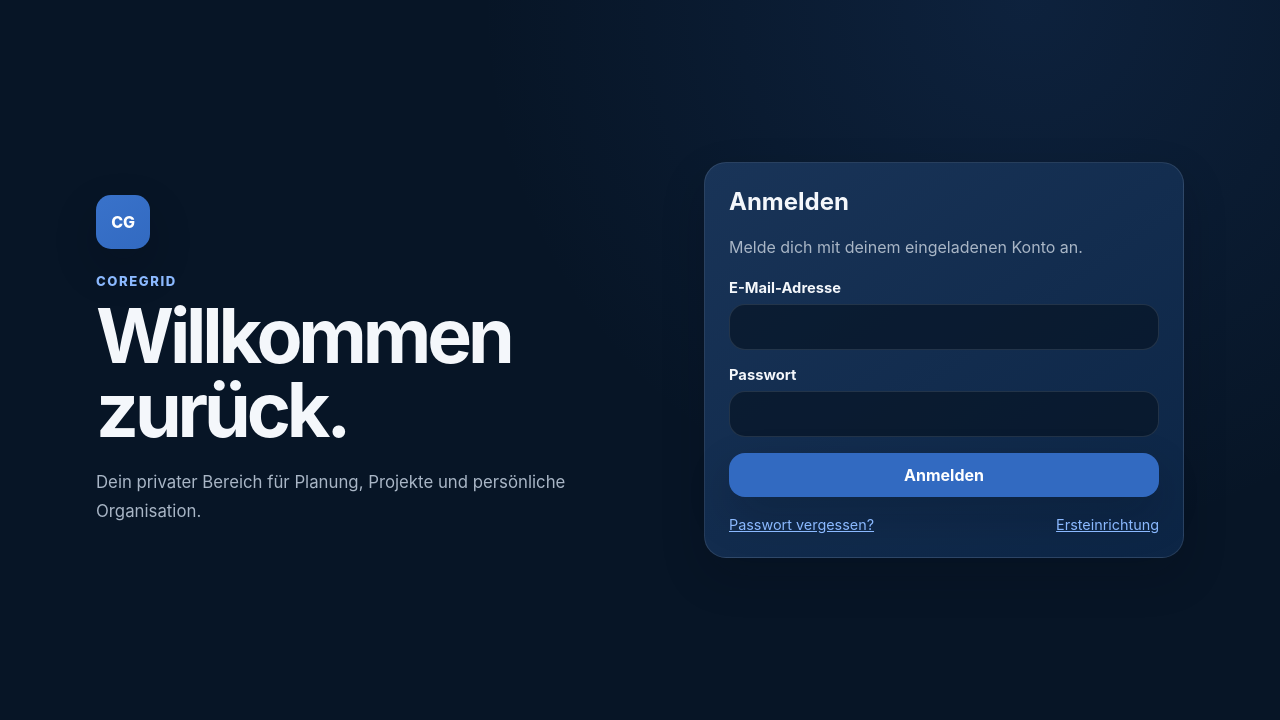
authentication pages › shows German validation for an invalid login
Click the button "Anmelden" at (944, 475), box [729,453,1159,497]
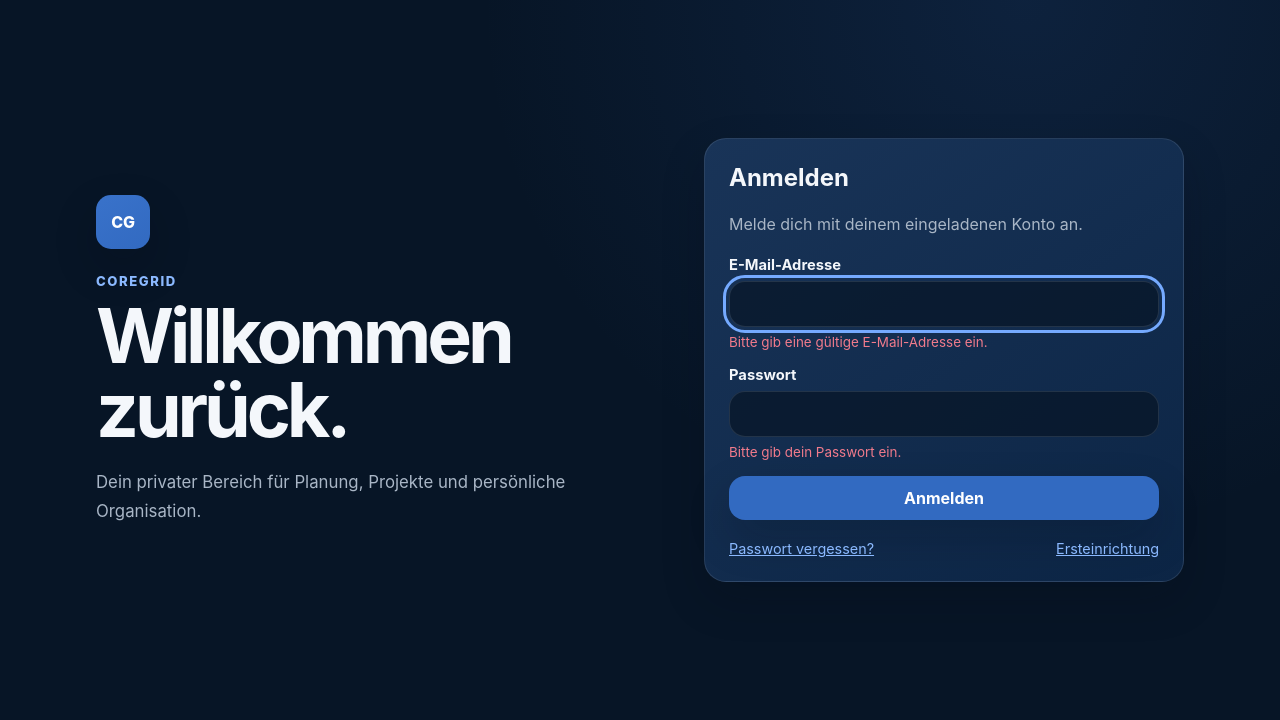
Check: the text "Bitte gib eine gültige E-Mail-Adresse ein." is shown, box [729,334,988,350]
Check: the text "Bitte gib dein Passwort ein." is shown, box [729,444,901,460]
